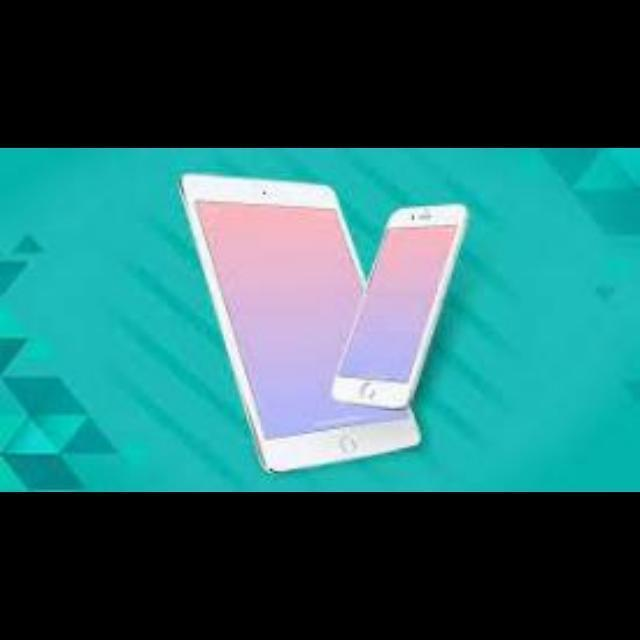phone: (334, 199, 496, 411)
